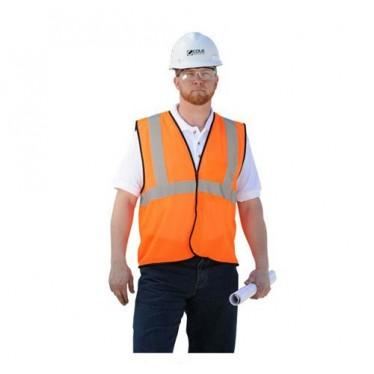helmet: (169, 31, 224, 73)
